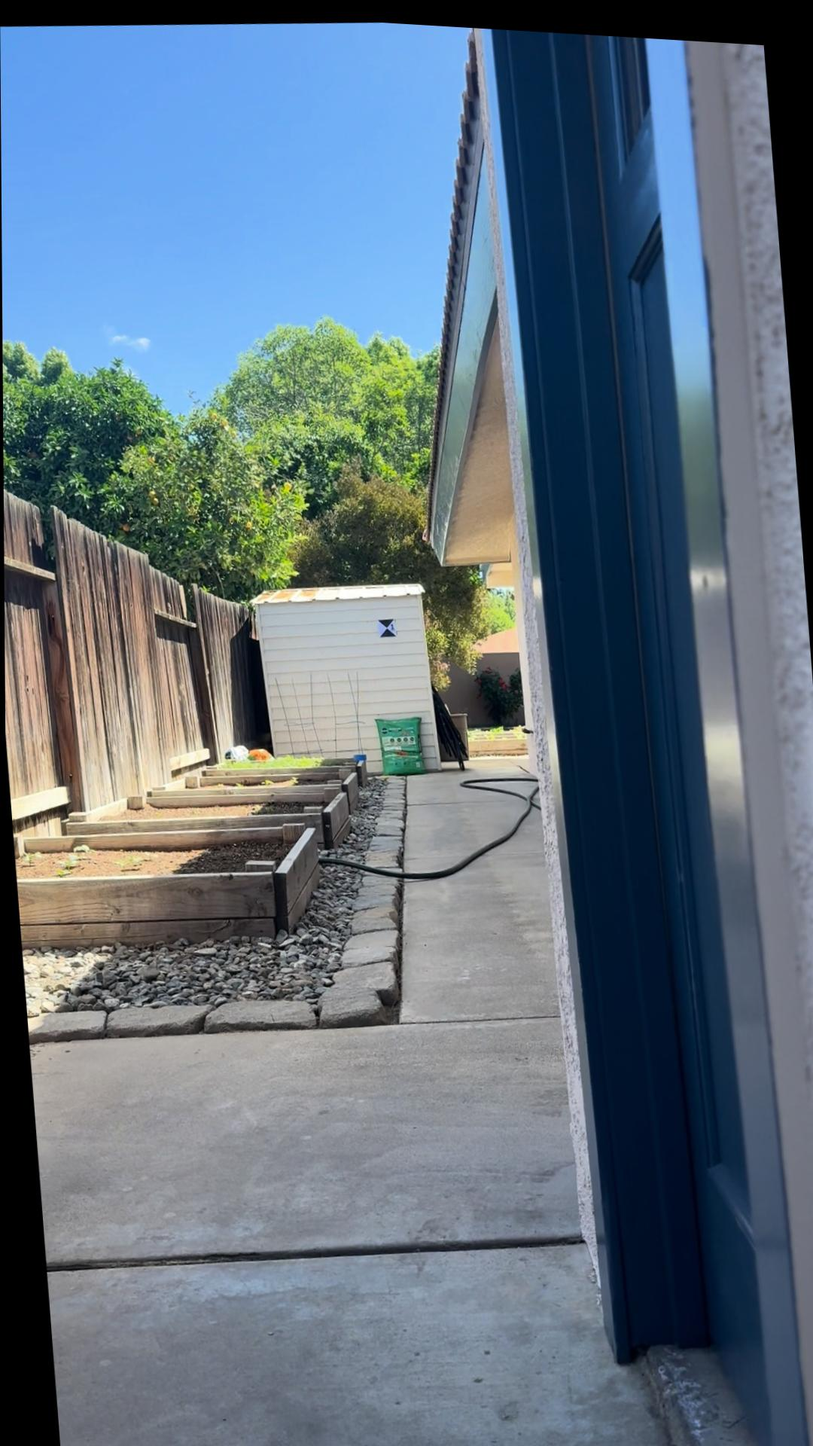target1: (378, 617, 398, 639)
